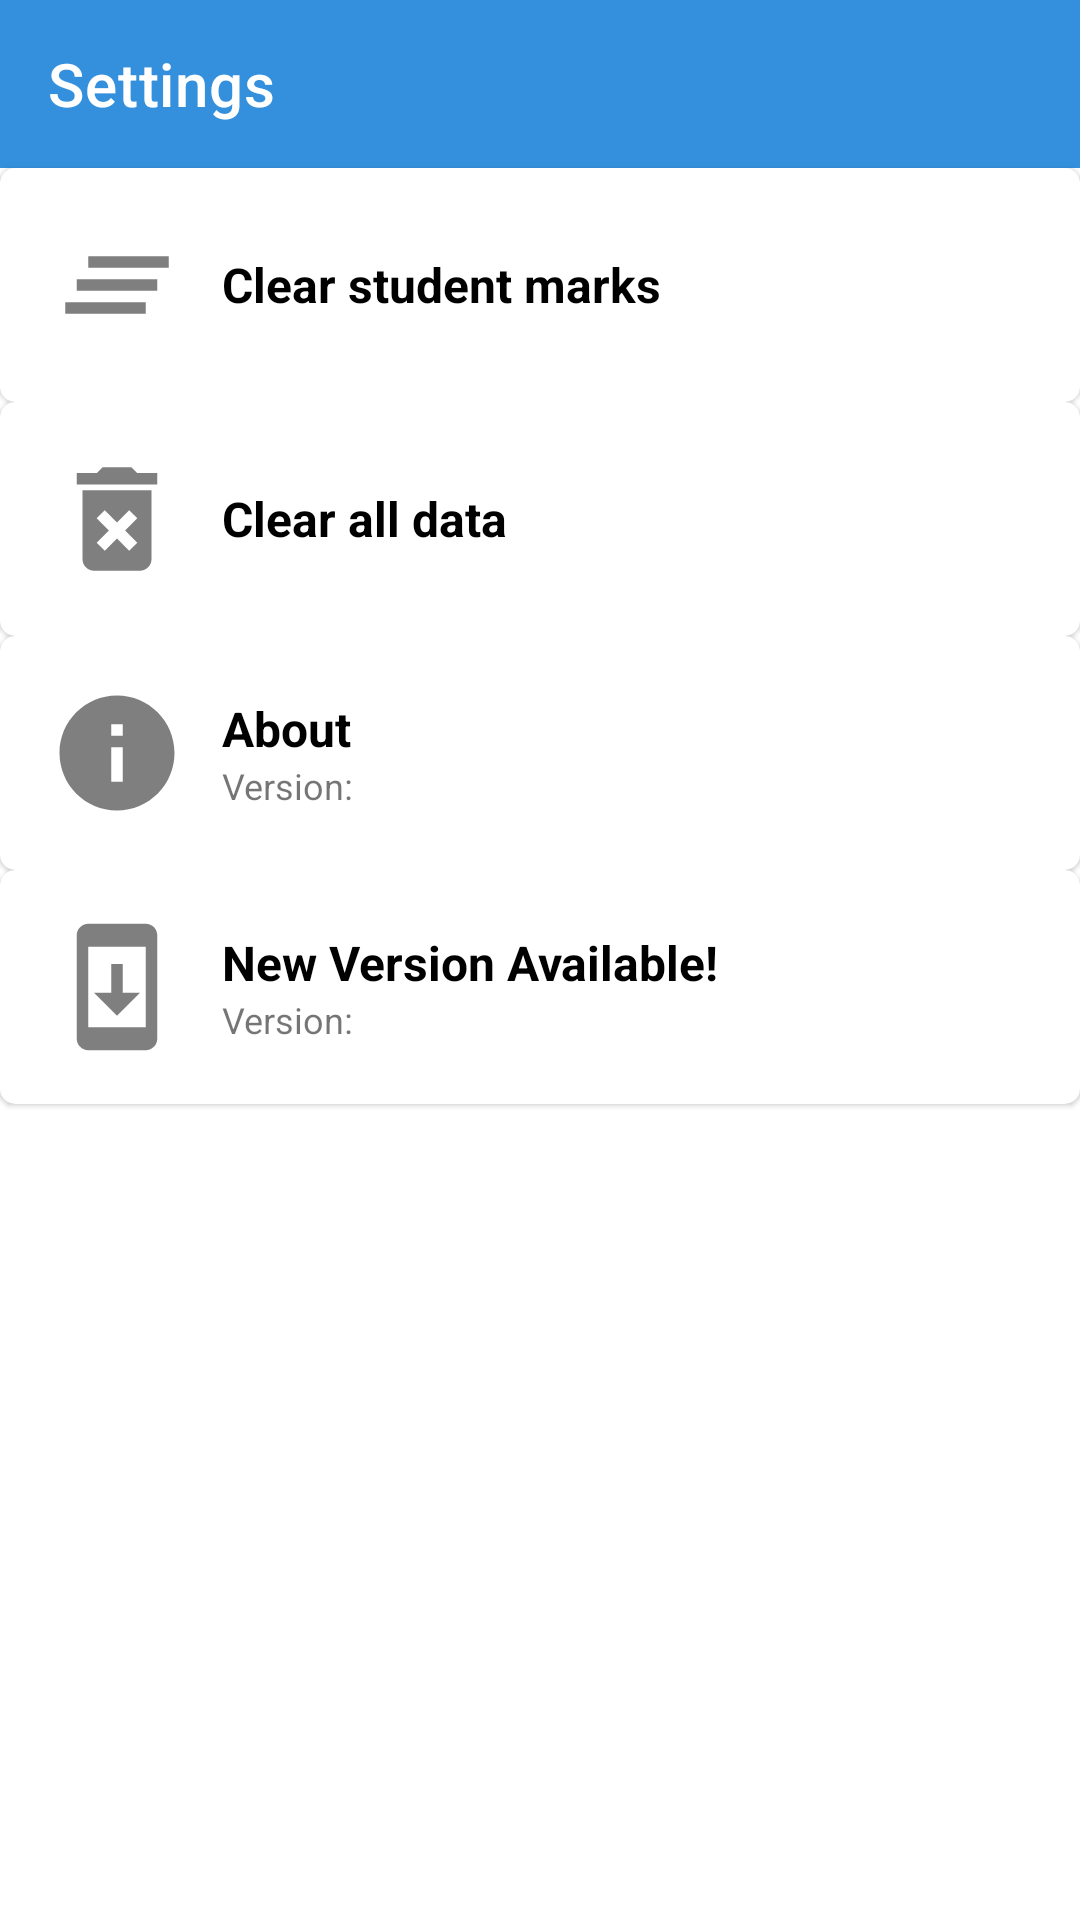

Icons on this 1080w x 1920h Android screen, each with its box as (x1, y1, x2, y2):
update app: (76, 923, 158, 1051)
